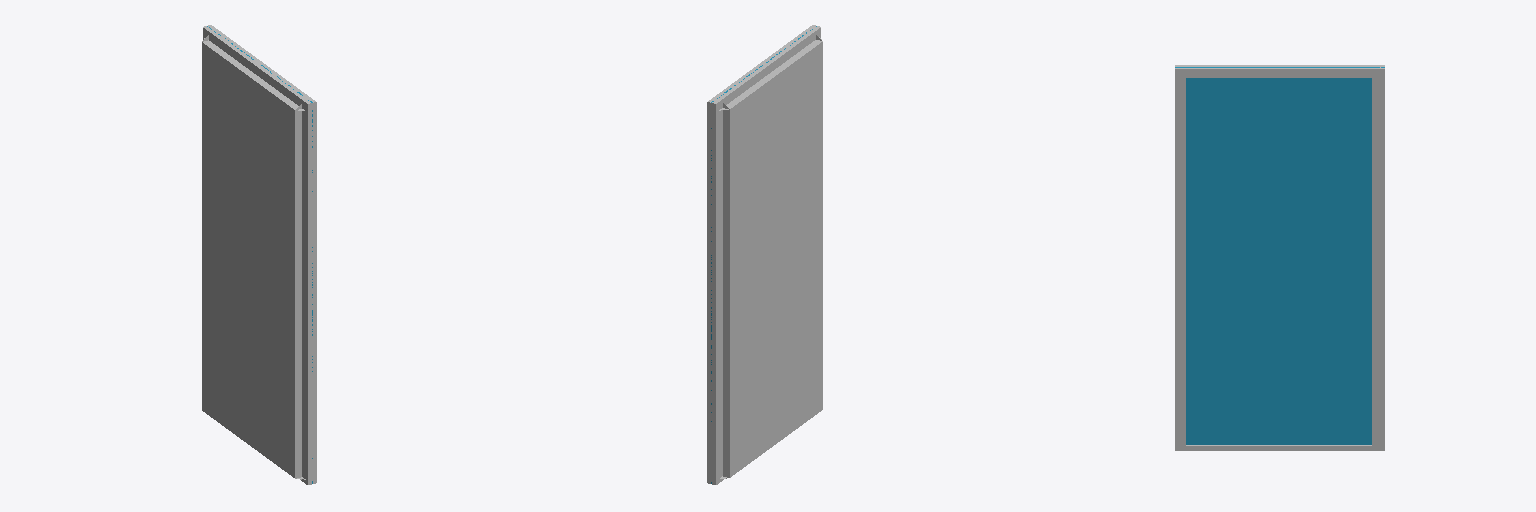
The model's file is partail_deriere_porte_v1.obj.
3 views of the same model, side by side, from view 1: azimuth 30°, elevation 25°; view 2: azimuth 150°, elevation 25°; view 3: azimuth 270°, elevation 25° (orthographic).
Parts seen in each view (by area): view 1: Cube.001; view 2: Cube.001; view 3: Cube.001.
Boxes of the visible parts, x1=… form: Cube.001: x1=202, y1=25, x2=316, y2=484; Cube.001: x1=707, y1=25, x2=822, y2=484; Cube.001: x1=1175, y1=65, x2=1384, y2=450.
Size of the model in its own units: 0.1745 by 4 by 2.